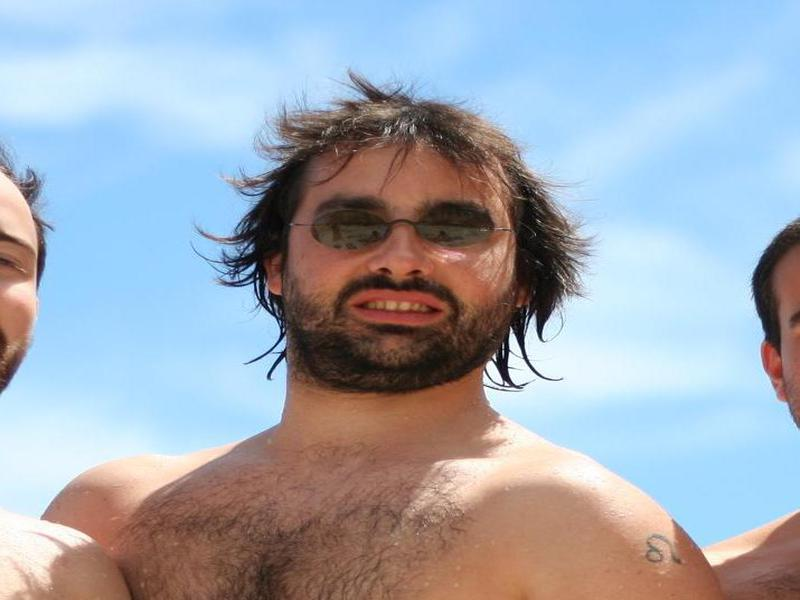person: (44, 56, 733, 600), (732, 206, 798, 600), (1, 115, 47, 599)
